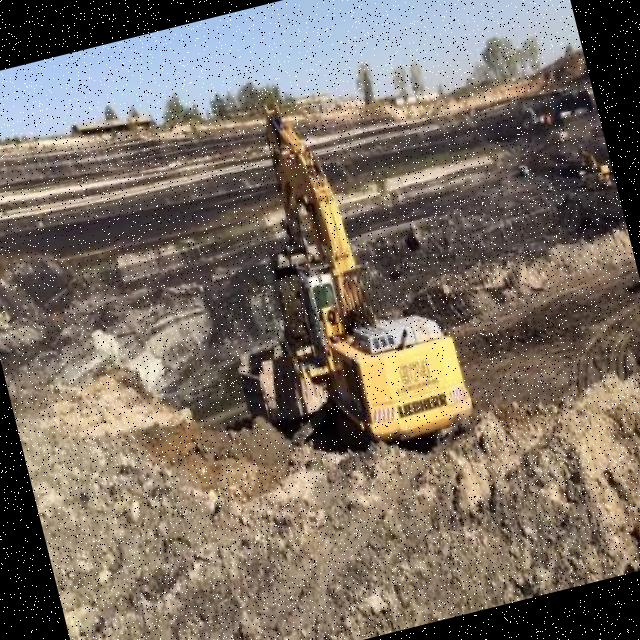Dump Truck: (232, 327, 334, 432)
Excavator: (232, 64, 479, 468)
